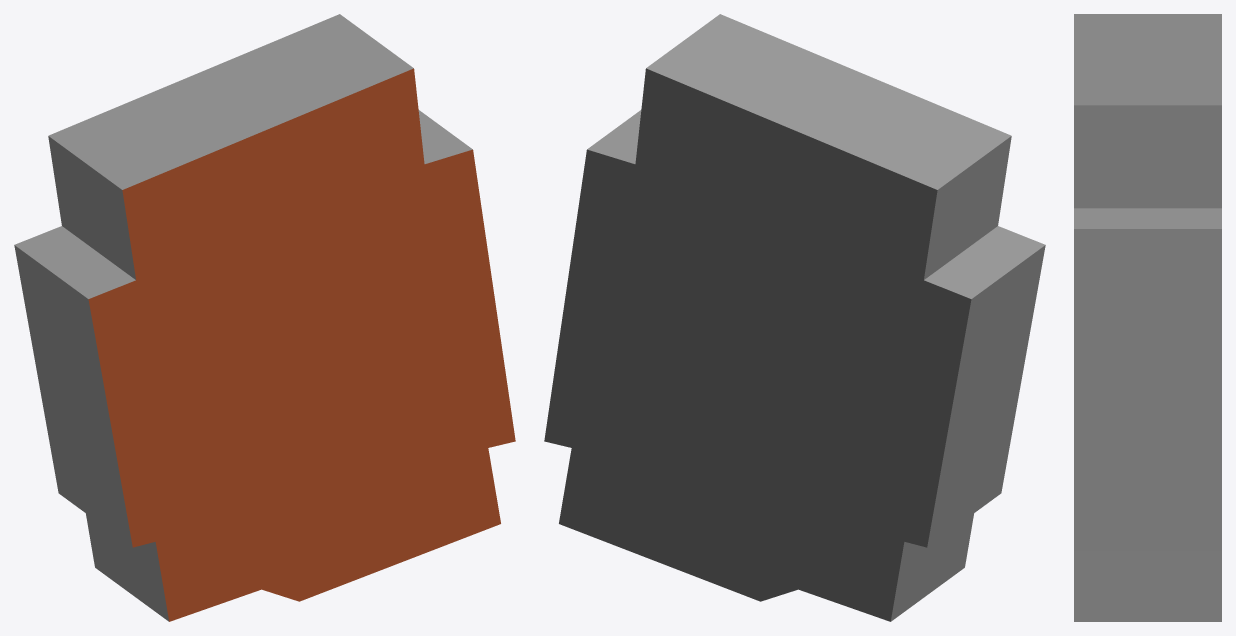
The model's file is construction_1386_assumed_A_Casa_h6m.obj.
3 renders of one model, left to right at view 1: azimuth 30°, elevation 25°; view 2: azimuth 150°, elevation 25°; view 3: azimuth 270°, elevation 25°, orthographic.
Parts seen in each view (by area): view 1: construction_1386_assumed_A_Casa; view 2: construction_1386_assumed_A_Casa; view 3: construction_1386_assumed_A_Casa.
Part boxes in pixels (x1,y1,x2,y2): construction_1386_assumed_A_Casa: (14,14,515,621); construction_1386_assumed_A_Casa: (544,14,1045,621); construction_1386_assumed_A_Casa: (1074,14,1221,621).
Size of the model in its own units: 19.94 by 22.54 by 6.
